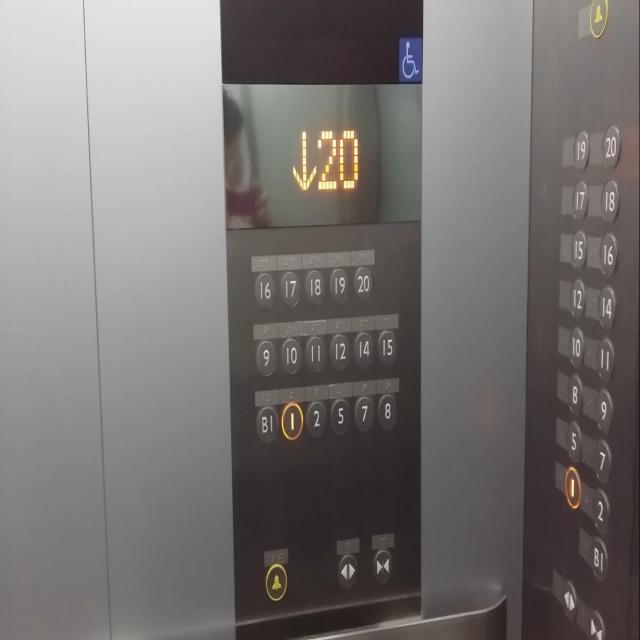1: (280, 400, 304, 442), (562, 463, 583, 510)
10: (279, 336, 302, 376), (566, 324, 586, 370)
11: (595, 336, 615, 382), (304, 334, 326, 374)
12: (328, 332, 351, 372), (568, 276, 587, 322)
14: (596, 284, 617, 334), (353, 330, 374, 370)
15: (569, 226, 588, 272), (377, 329, 398, 370)
16: (598, 231, 618, 279), (254, 271, 274, 310)
17: (570, 178, 590, 222), (279, 269, 300, 309)
18: (599, 176, 619, 226), (304, 268, 325, 306)
19: (570, 127, 590, 173), (328, 265, 349, 305)
2: (590, 487, 612, 534), (306, 399, 326, 440)
20: (600, 122, 621, 170), (352, 264, 374, 304)
5: (328, 395, 352, 437), (564, 418, 584, 464)
7: (590, 435, 613, 483), (353, 394, 375, 434)
8: (377, 392, 398, 432), (566, 373, 584, 415)
9: (592, 386, 615, 430), (255, 338, 278, 379)
B1: (588, 534, 610, 582), (255, 404, 278, 449)
CH: (398, 31, 424, 87)
alarm: (264, 562, 288, 604), (587, 0, 609, 42)
close: (371, 548, 394, 587), (587, 604, 608, 639)
led: (220, 78, 424, 234)
open: (336, 552, 358, 592), (560, 577, 578, 625)
